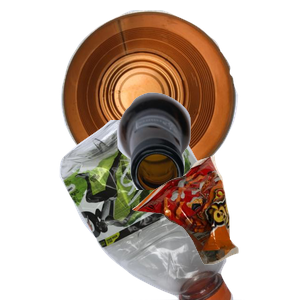glass: (115, 90, 300, 270)
metal: (58, 10, 289, 186)
plastic: (57, 120, 293, 300)
trash: (130, 153, 300, 300)
